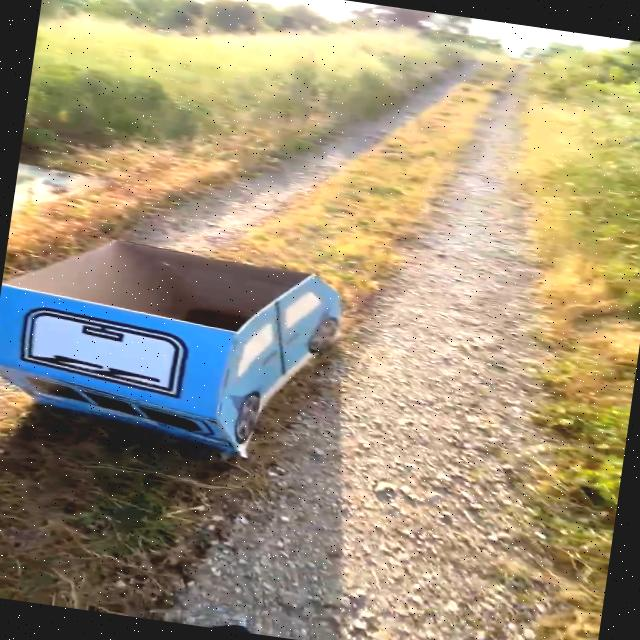blue_car: (0, 198, 416, 520)
